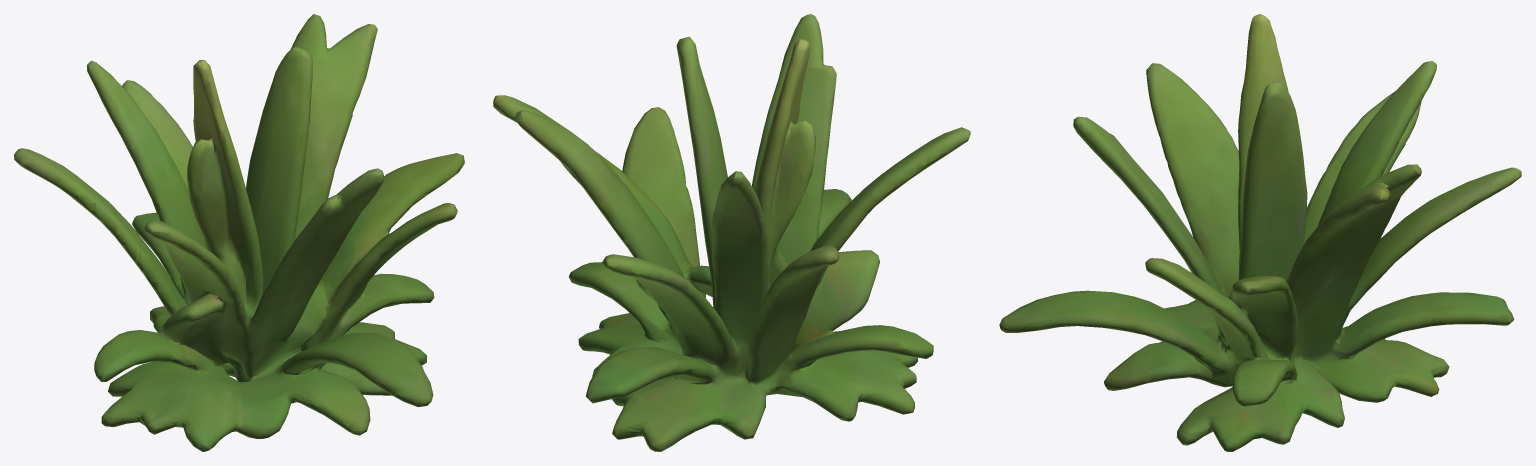
The model's file is hierba_espesa.glb.
3 renders of one model, left to right at view 1: azimuth 30°, elevation 25°; view 2: azimuth 150°, elevation 25°; view 3: azimuth 270°, elevation 25°, orthographic. The views are drawn at different scales.
Parts seen in each view (by area): view 1: hierba_espesa_malla; view 2: hierba_espesa_malla; view 3: hierba_espesa_malla.
Boxes of the visible parts, left/top/right/bottom form: hierba_espesa_malla: left=14, top=14, right=464, bottom=451; hierba_espesa_malla: left=493, top=14, right=970, bottom=451; hierba_espesa_malla: left=999, top=14, right=1521, bottom=451.
Bounding box in the file's own units: 0.1077 × 0.0962 × 0.1328.
1 material, 1 textured.
